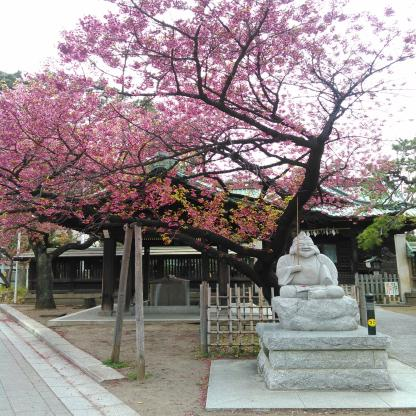KanhiSakura: (55, 0, 416, 260), (0, 64, 230, 262)
